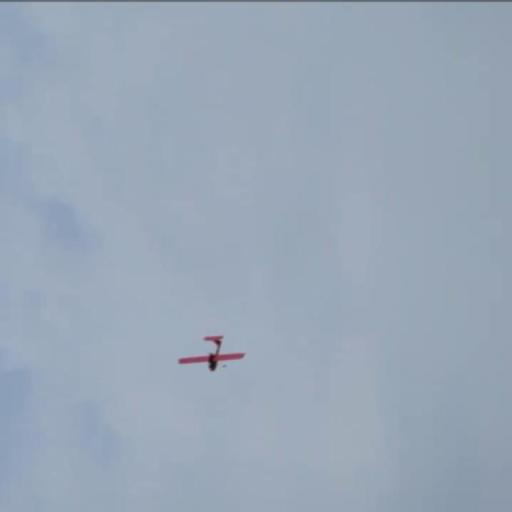uav: (176, 334, 247, 370)
